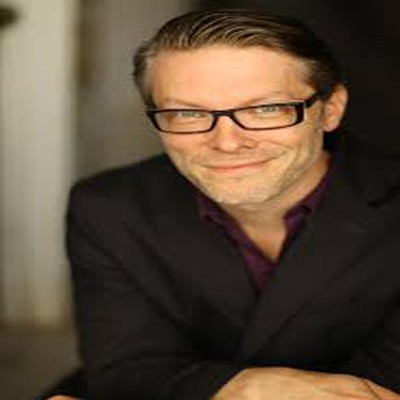eywear: (148, 83, 330, 157)
